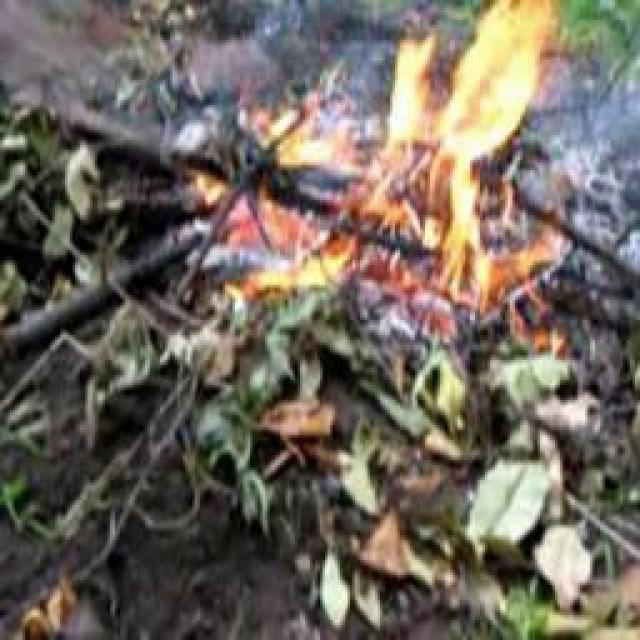Fire: (260, 0, 577, 306)
